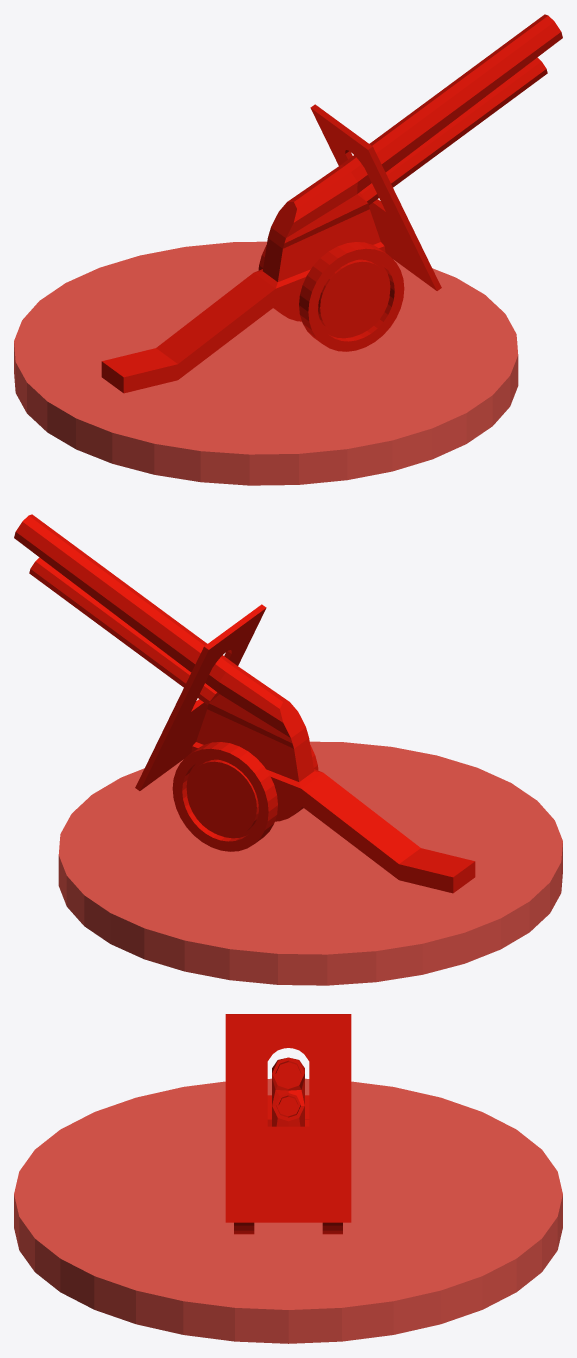
Rendered from artilleryRed.fbx.
3 views of the same model, one above another, from view 1: azimuth 30°, elevation 25°; view 2: azimuth 150°, elevation 25°; view 3: azimuth 270°, elevation 25° (orthographic). The views are drawn at different scales.
Parts seen in each view (by area): view 1: artilleryRed; view 2: artilleryRed; view 3: artilleryRed.
Part boxes in pixels (x1,y1,x2,y2): artilleryRed: (14, 14, 562, 485); artilleryRed: (14, 514, 562, 985); artilleryRed: (14, 1014, 562, 1343).
Bounding box in the file's own units: 180 × 99.01 × 154.
